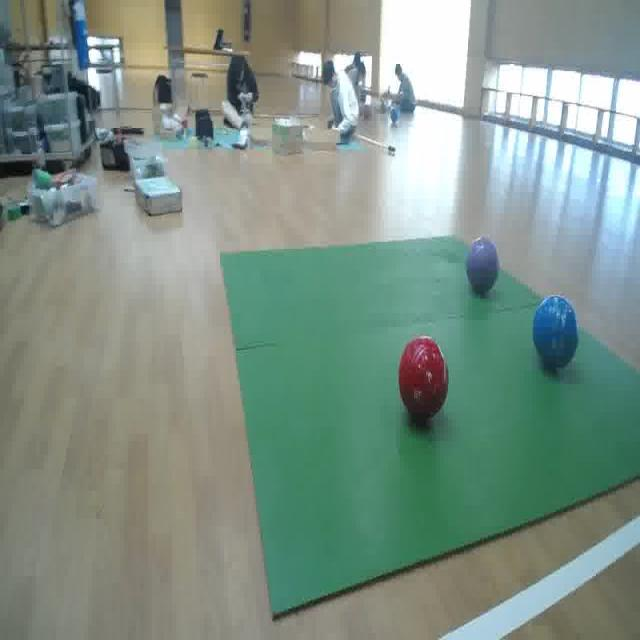blue_ball: (527, 286, 589, 383)
purple_ball: (468, 234, 498, 302)
red_ball: (392, 324, 455, 433)
